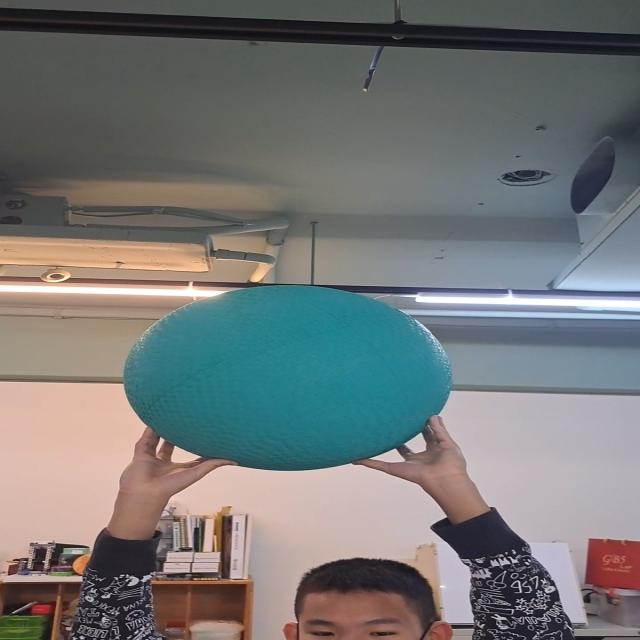ALGAE: (122, 285, 455, 471)
